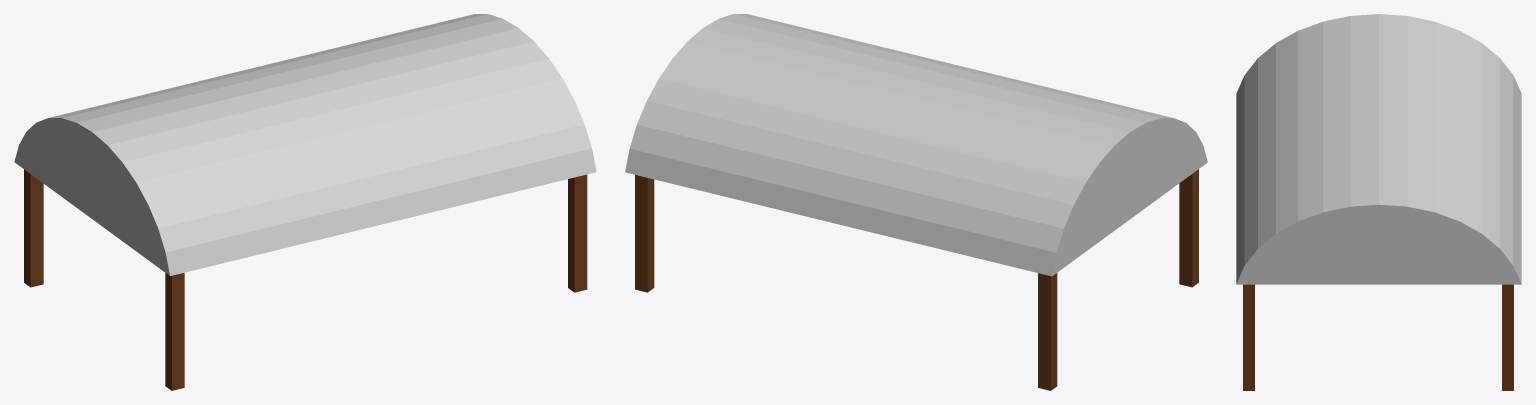
File: shelter.fbx
3 views of the same model, side by side, from view 1: azimuth 30°, elevation 25°; view 2: azimuth 150°, elevation 25°; view 3: azimuth 270°, elevation 25° (orthographic). The views are drawn at different scales.
Visible parts, largest first — view 1: Cylinder, Cube.003, Cube.002, Cube; view 2: Cylinder, Cube, Cube.001, Cube.003; view 3: Cylinder, Cube.002, Cube.001.
Boxes of the visible parts, box(x1,y1,x2,y2) form: Cylinder: box(14, 14, 596, 275); Cube.003: box(165, 272, 184, 390); Cube.002: box(568, 174, 587, 292); Cube: box(24, 169, 43, 287); Cylinder: box(625, 14, 1207, 276); Cube: box(1038, 273, 1057, 390); Cube.001: box(635, 175, 654, 292); Cube.003: box(1179, 169, 1198, 287); Cylinder: box(1236, 14, 1521, 284); Cube.002: box(1243, 284, 1254, 390); Cube.001: box(1502, 284, 1513, 390).
Bounding box in the file's own units: 1058 × 488 × 669.
